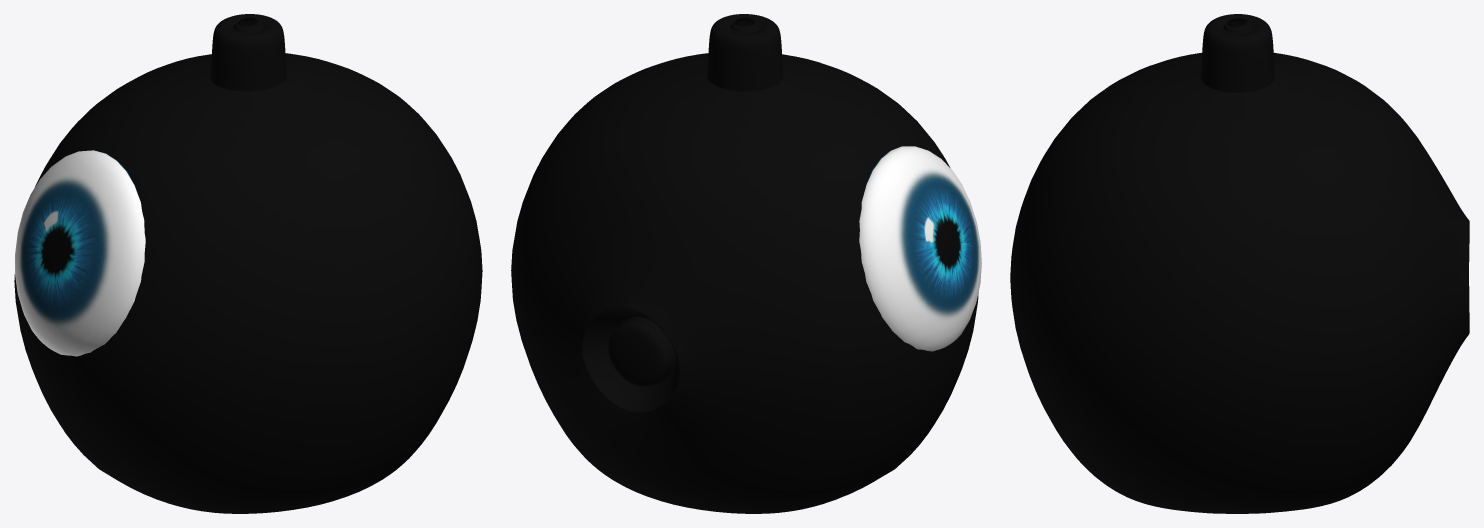
The model's file is BOMB.FBX.
3 views of the same model, side by side, from view 1: azimuth 30°, elevation 25°; view 2: azimuth 150°, elevation 25°; view 3: azimuth 270°, elevation 25° (orthographic).
Parts seen in each view (by area): view 1: Bob_omb_HyperNURBS_Sphere, Sphere001; view 2: Bob_omb_HyperNURBS_Sphere, Sphere001, Object001; view 3: Bob_omb_HyperNURBS_Sphere.
Part boxes in pixels (x1,y1,x2,y2): Bob_omb_HyperNURBS_Sphere: (14,14,482,513); Sphere001: (15,150,145,356); Bob_omb_HyperNURBS_Sphere: (511,14,978,513); Sphere001: (859,146,981,351); Object001: (590,308,679,407); Bob_omb_HyperNURBS_Sphere: (1010,14,1469,513).
Size of the model in its own units: 2.8 by 2.98 by 2.67.
Materials: 2 (1 with a texture image).
